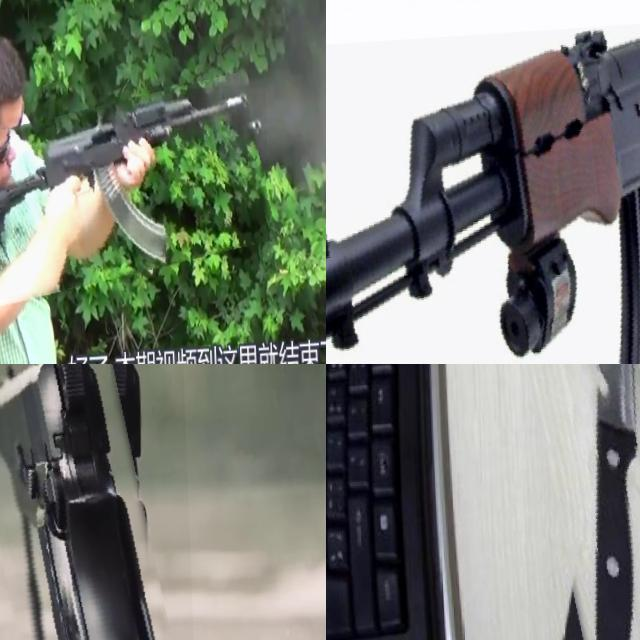-: (512, 364, 640, 640)
gun-knife-thesis - v11 Yolov5 augmented: (326, 21, 640, 364), (0, 89, 268, 305), (0, 364, 199, 640)
